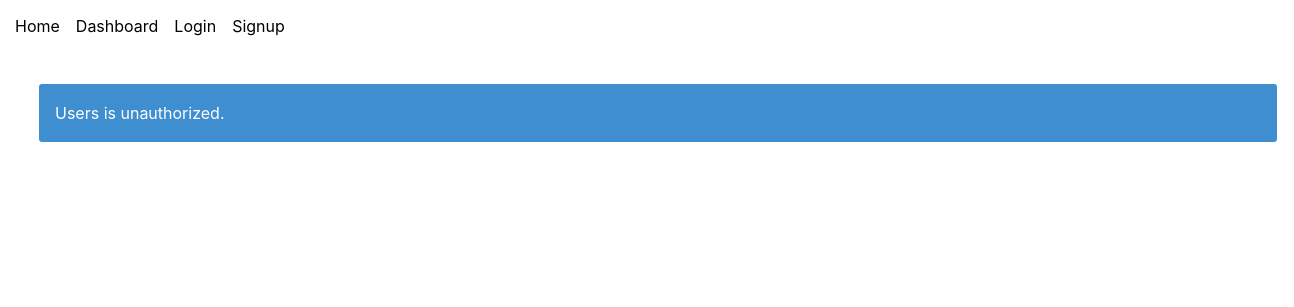
Test: test for app › renders login form after clicking /login
Click the link "Login": (195, 26) x1=174 y1=16 x2=216 y2=36
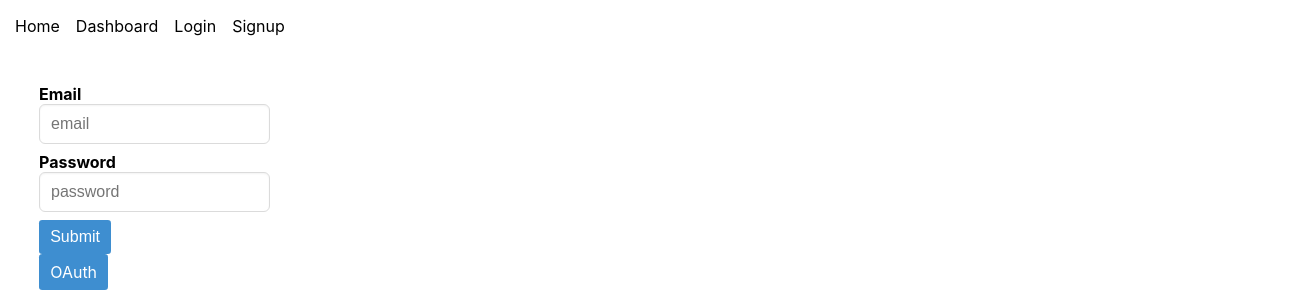
Now the text "Email" is shown, box x1=39 y1=84 x2=81 y2=104
